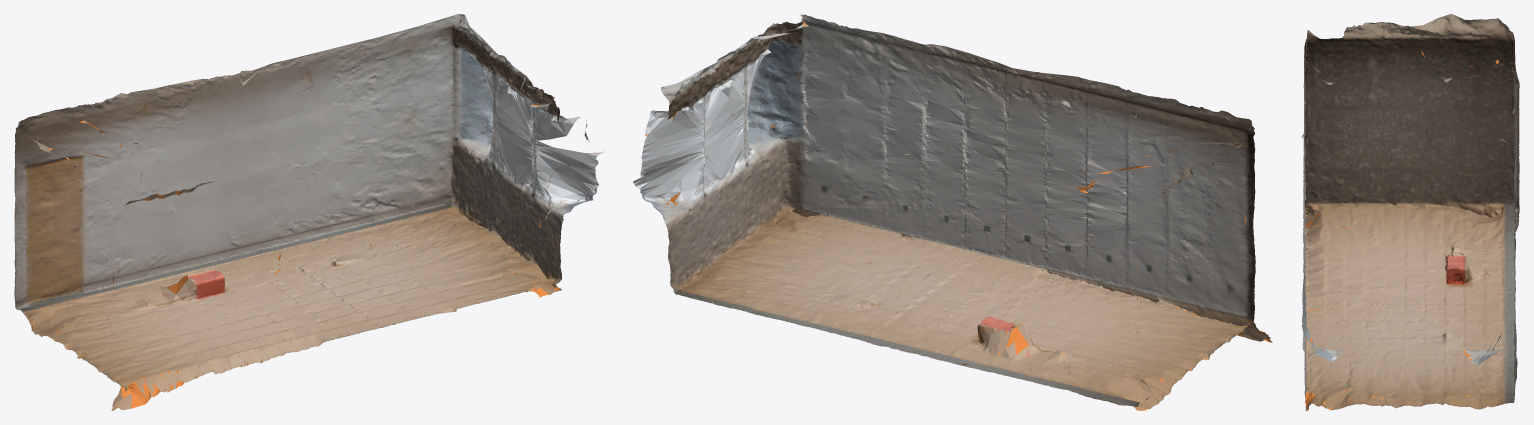
3 views of the same model, side by side, from view 1: azimuth 30°, elevation 25°; view 2: azimuth 150°, elevation 25°; view 3: azimuth 270°, elevation 25° (orthographic). The views are drawn at different scales.
Visible parts, largest first — view 1: textured.obj; view 2: textured.obj; view 3: textured.obj.
Boxes of the visible parts, x1,y1,x2,y2 form: textured.obj: (14, 14, 603, 410); textured.obj: (633, 14, 1272, 410); textured.obj: (1301, 14, 1519, 410).
Bounding box in the file's own units: 8.19 × 3.37 × 3.29.
Materials: 1 (1 with a texture image).
